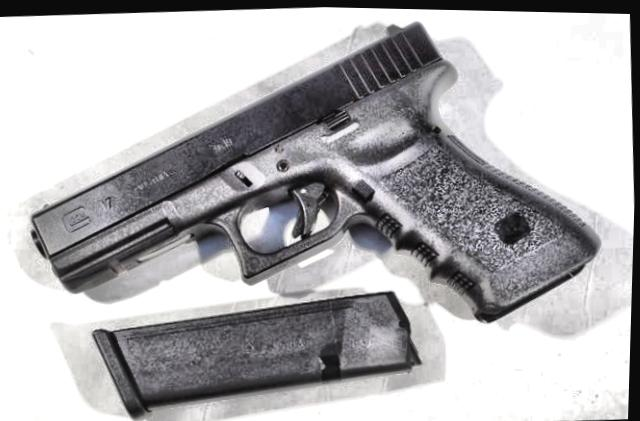pistol: (14, 0, 611, 368)
